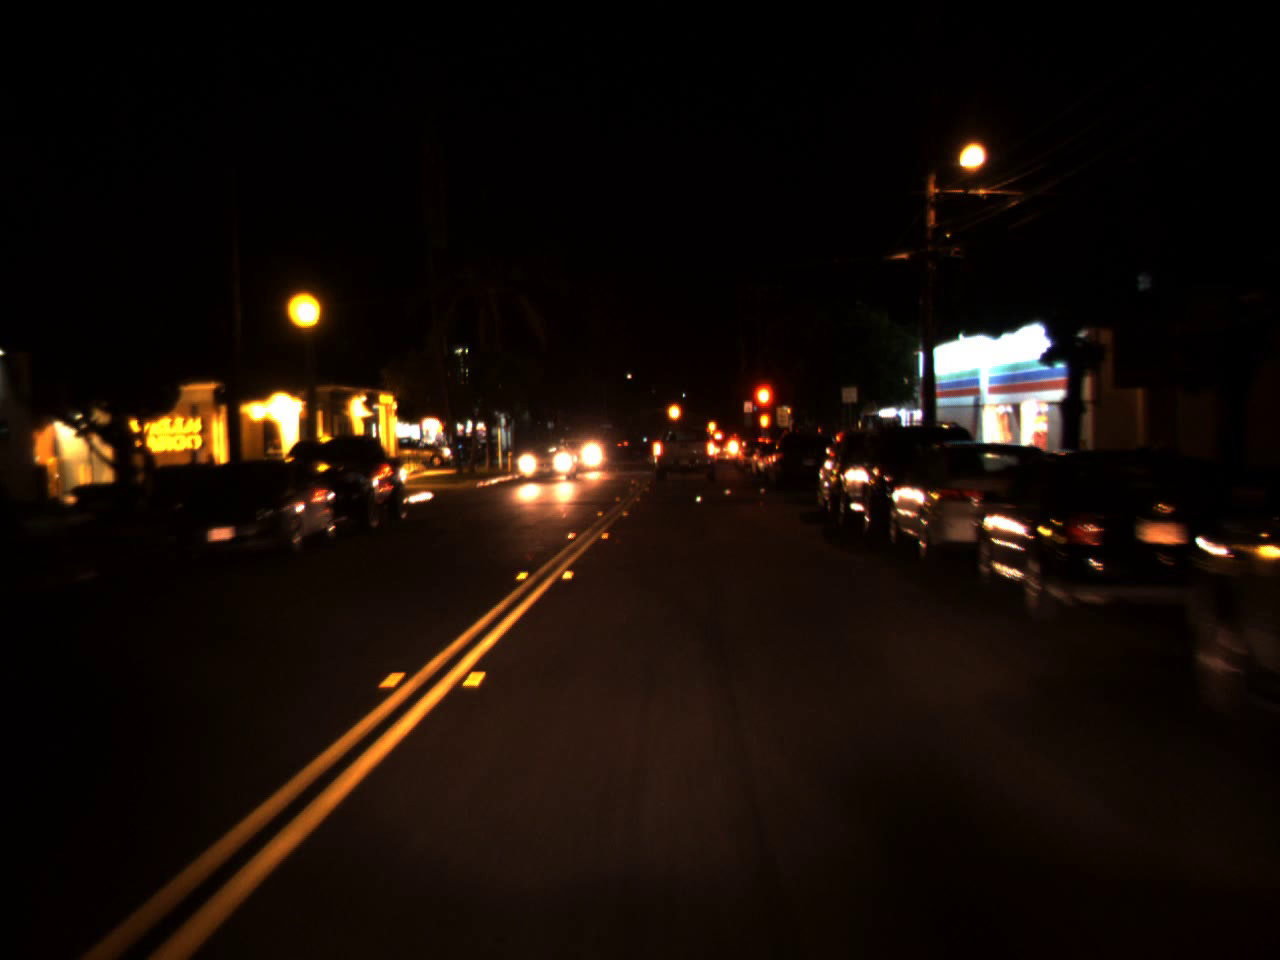stop: (749, 381, 776, 435)
warning: (666, 394, 682, 426), (707, 417, 716, 434)
